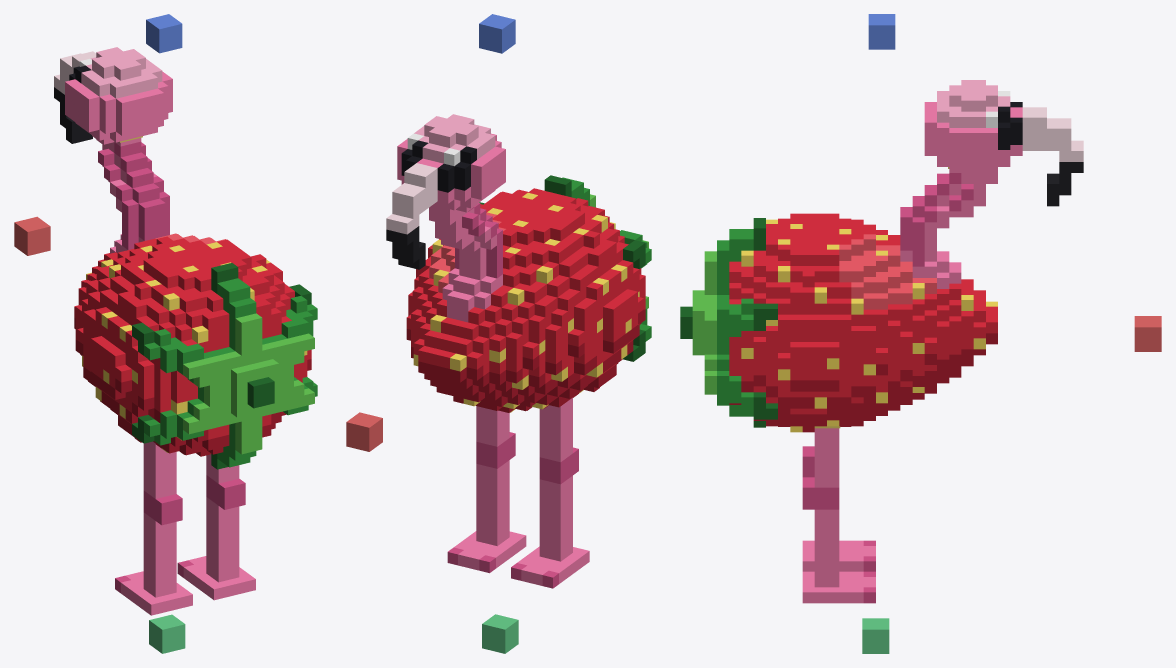
The model's file is StrawberelliFlamingelli.glb.
3 renders of one model, left to right at view 1: azimuth 30°, elevation 25°; view 2: azimuth 150°, elevation 25°; view 3: azimuth 270°, elevation 25°, orthographic.
Visible parts, largest first — view 1: StrawberelliFlamingelli_Body, StrawberelliFlamingelli_Head3, StrawberelliFlamingelli_Leg2, StrawberelliFlamingelli_Leg1, StrawberelliFlamingelli_Built, StrawberelliFlamingelli_Front, StrawberelliFlamingelli_Top; view 2: StrawberelliFlamingelli_Body, StrawberelliFlamingelli_Head3, StrawberelliFlamingelli_Leg2, StrawberelliFlamingelli_Leg1, StrawberelliFlamingelli_Front, StrawberelliFlamingelli_Top, StrawberelliFlamingelli_Built; view 3: StrawberelliFlamingelli_Body, StrawberelliFlamingelli_Head3, StrawberelliFlamingelli_Leg1, StrawberelliFlamingelli_Leg2, StrawberelliFlamingelli_Front, StrawberelliFlamingelli_Top, StrawberelliFlamingelli_Built.
Boxes of the visible parts, box(x1,y1,x2,y2) form: StrawberelliFlamingelli_Body: box(74, 139, 317, 469); StrawberelliFlamingelli_Head3: box(54, 47, 172, 146); StrawberelliFlamingelli_Leg2: box(115, 441, 192, 615); StrawberelliFlamingelli_Leg1: box(177, 454, 255, 600); StrawberelliFlamingelli_Built: box(149, 614, 185, 653); StrawberelliFlamingelli_Front: box(14, 216, 50, 255); StrawberelliFlamingelli_Top: box(146, 14, 182, 53); StrawberelliFlamingelli_Body: box(406, 175, 651, 412); StrawberelliFlamingelli_Head3: box(386, 114, 505, 269); StrawberelliFlamingelli_Leg2: box(511, 397, 589, 588); StrawberelliFlamingelli_Leg1: box(447, 406, 526, 573); StrawberelliFlamingelli_Front: box(346, 412, 382, 451); StrawberelliFlamingelli_Top: box(479, 14, 515, 53); StrawberelliFlamingelli_Built: box(482, 614, 518, 653); StrawberelliFlamingelli_Body: box(680, 173, 997, 432); StrawberelliFlamingelli_Head3: box(924, 80, 1083, 206); StrawberelliFlamingelli_Leg1: box(802, 428, 875, 603); StrawberelliFlamingelli_Leg2: box(802, 446, 875, 571); StrawberelliFlamingelli_Front: box(1134, 316, 1161, 351); StrawberelliFlamingelli_Top: box(868, 14, 895, 49); StrawberelliFlamingelli_Built: box(862, 618, 889, 653).
Bounding box in the file's own units: 2.05 × 6.45 × 4.48.
1 material, 1 textured.
